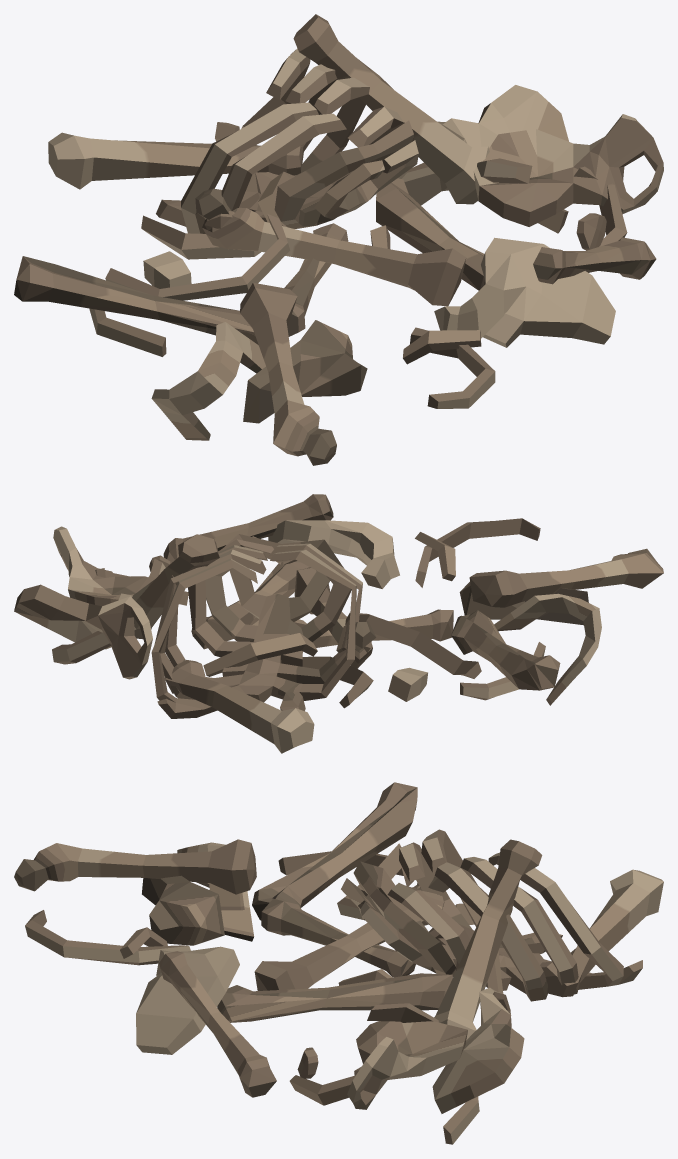
Rendered from crypt_bone_pile.gltf.
3 renders of one model, top to bottom at view 1: azimuth 30°, elevation 25°; view 2: azimuth 150°, elevation 25°; view 3: azimuth 270°, elevation 25°, orthographic. The views are drawn at different scales.
Visible parts, largest first — view 1: crypt_bone_pile; view 2: crypt_bone_pile; view 3: crypt_bone_pile.
Part boxes in pixels (bbox=[...]): crypt_bone_pile: bbox=[14, 14, 663, 465]; crypt_bone_pile: bbox=[14, 494, 663, 753]; crypt_bone_pile: bbox=[14, 782, 663, 1144].
Size of the model in its own units: 1.02 by 0.3836 by 1.01.
1 material, 1 textured.
